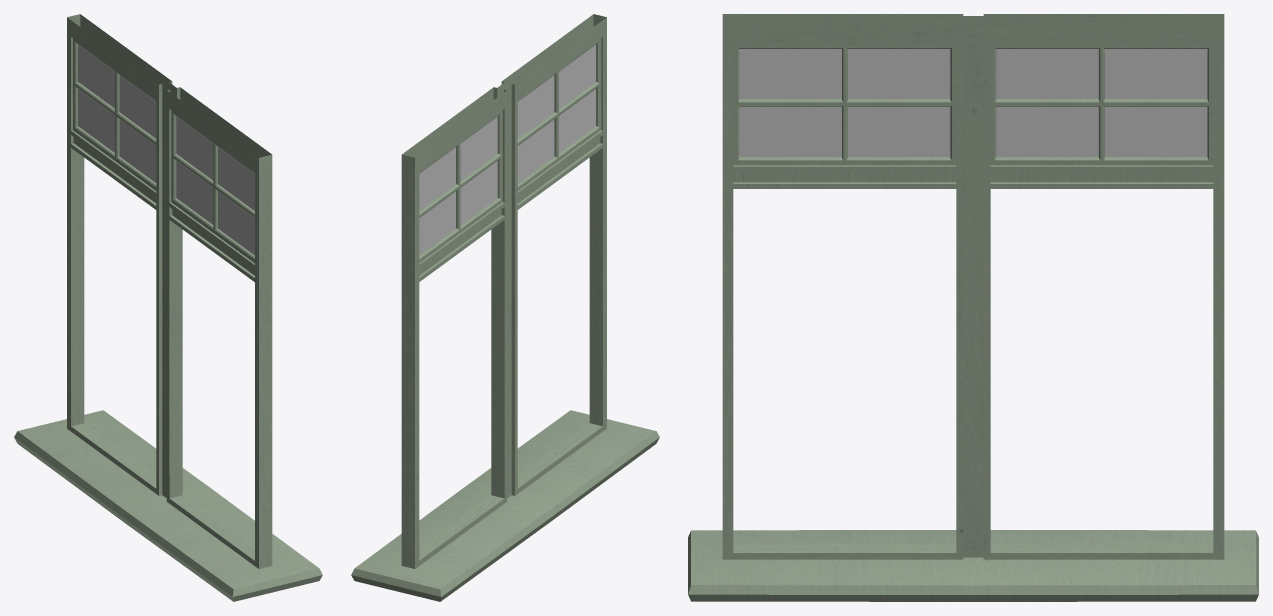
File: SM_WW28_Frame.fbx
The picture shows the model from 3 angles, left to right: view 1: azimuth 30°, elevation 25°; view 2: azimuth 150°, elevation 25°; view 3: azimuth 270°, elevation 25°; orthographic projection. The views are drawn at different scales.
Parts seen in each view (by area): view 1: SM_WW28_Frame; view 2: SM_WW28_Frame; view 3: SM_WW28_Frame.
Boxes of the visible parts, x1,y1,x2,y2 form: SM_WW28_Frame: [14, 14, 322, 601]; SM_WW28_Frame: [351, 14, 659, 601]; SM_WW28_Frame: [688, 14, 1258, 601].
Size of the model in its own units: 63.26 by 261 by 283.
2 materials, 1 textured.
